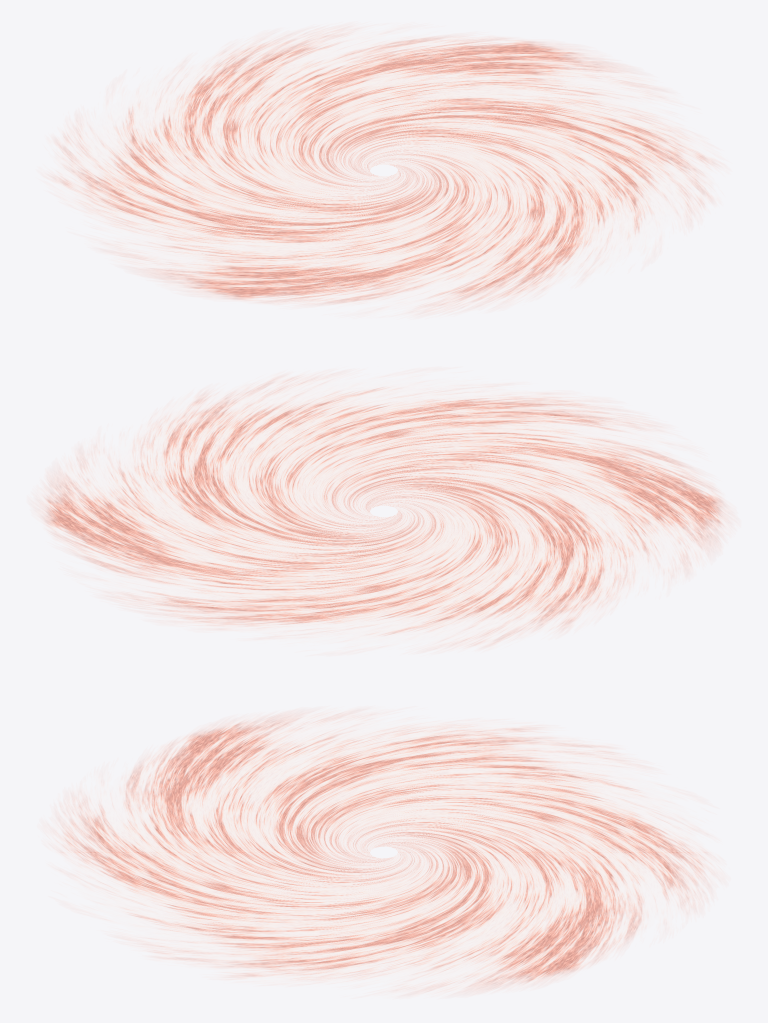
Rendered from devil_ground.glb.
3 renders of one model, top to bottom at view 1: azimuth 30°, elevation 25°; view 2: azimuth 150°, elevation 25°; view 3: azimuth 270°, elevation 25°, orthographic.
Visible parts, largest first — view 1: devil_ground; view 2: devil_ground; view 3: devil_ground.
Part boxes in pixels (x1,y1,x2,y2): devil_ground: (54,29,713,311); devil_ground: (42,377,725,645); devil_ground: (60,713,707,991).
Bounding box in the file's own units: 32 × 0 × 32.
1 material, 1 textured.
